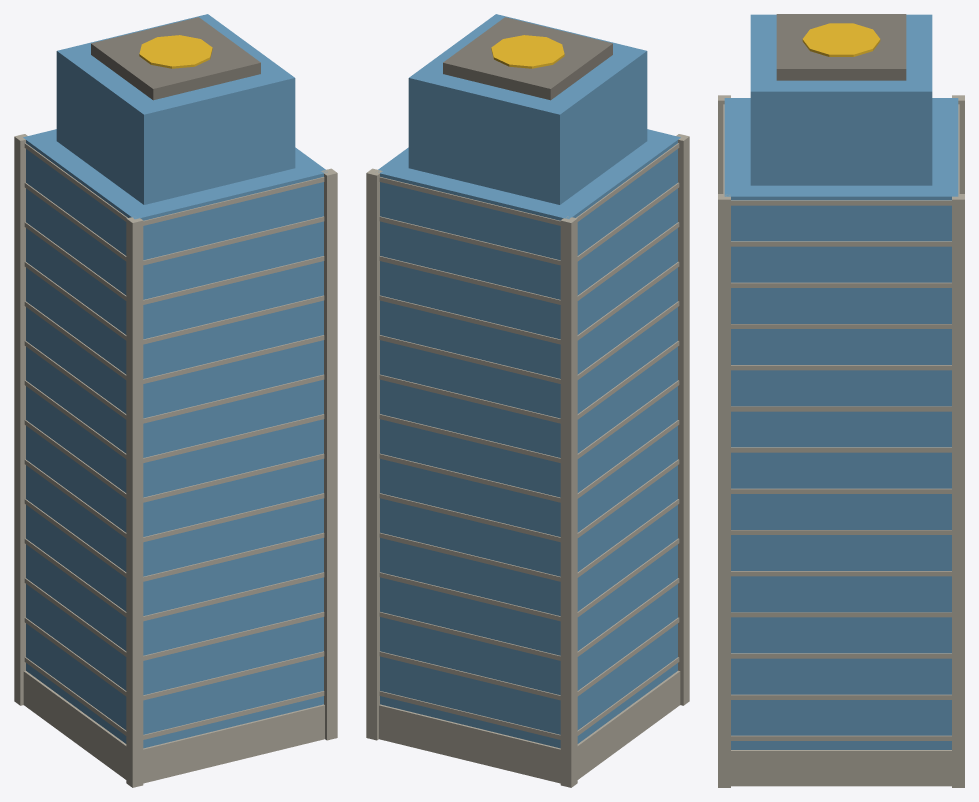
The model's file is city_office_tower.glb.
3 views of the same model, side by side, from view 1: azimuth 30°, elevation 25°; view 2: azimuth 150°, elevation 25°; view 3: azimuth 270°, elevation 25° (orthographic). The views are drawn at different scales.
Parts seen in each view (by area): view 1: city_office_tower_glass, city_office_tower_concrete, city_office_tower_concreteDark, city_office_tower_yellow; view 2: city_office_tower_glass, city_office_tower_concrete, city_office_tower_concreteDark, city_office_tower_yellow; view 3: city_office_tower_glass, city_office_tower_concrete, city_office_tower_concreteDark, city_office_tower_yellow.
Boxes of the visible parts, box(x1,y1,x2,y2) form: city_office_tower_glass: box(23, 14, 327, 748); city_office_tower_concrete: box(14, 134, 337, 787); city_office_tower_concreteDark: box(91, 17, 260, 100); city_office_tower_yellow: box(139, 35, 212, 68); city_office_tower_glass: box(378, 14, 680, 748); city_office_tower_concrete: box(366, 134, 689, 787); city_office_tower_concreteDark: box(443, 17, 612, 100); city_office_tower_yellow: box(491, 35, 564, 68); city_office_tower_glass: box(724, 14, 958, 749); city_office_tower_concrete: box(718, 95, 964, 787); city_office_tower_concreteDark: box(776, 14, 906, 80); city_office_tower_yellow: box(802, 23, 880, 56).
Bounding box in the file's own units: 19 × 59.2 × 19.
